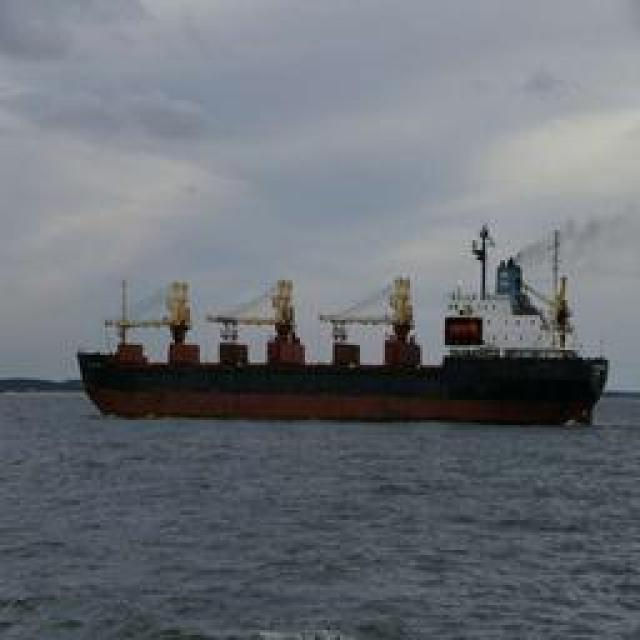Ship: (90, 281, 608, 426)
